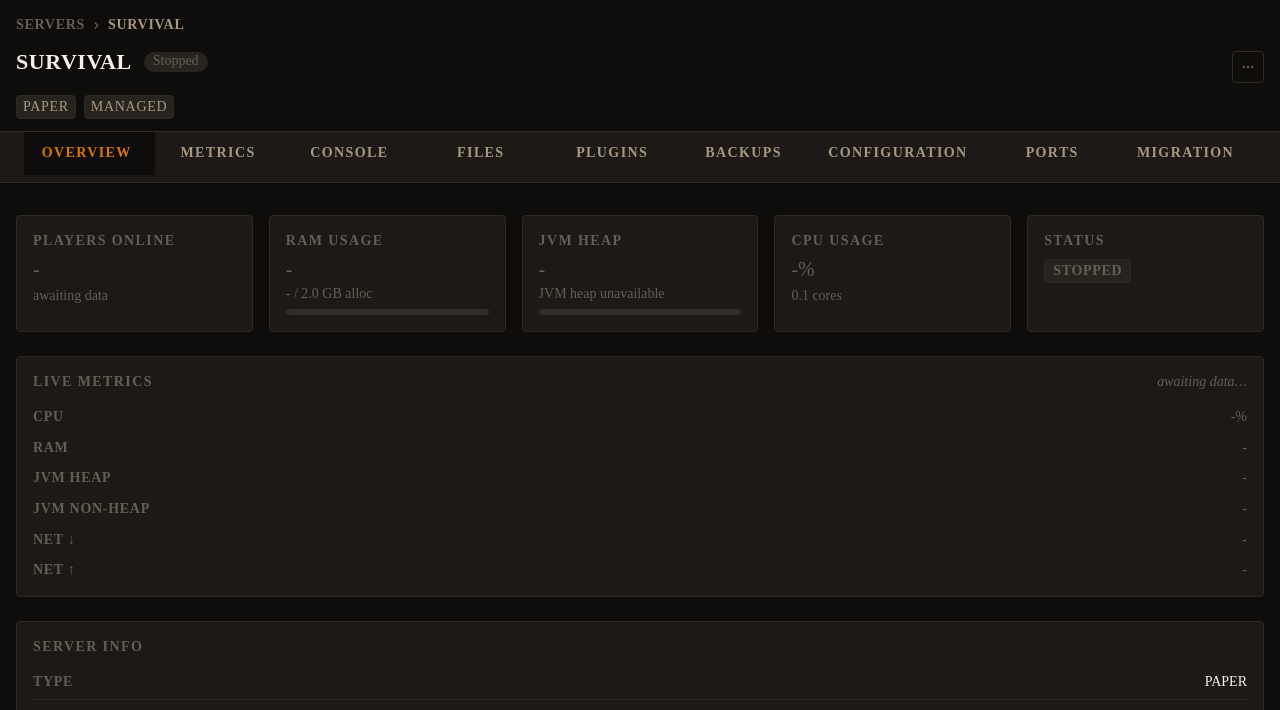
Test case: ServerDetailPage › Export button › shows Export button in overflow menu with server.export permission
Expected: the text "Survival" is shown, [108,16,184,35]
Click the button named "More actions".
click(1248, 67)  # box [1232,51,1264,83]
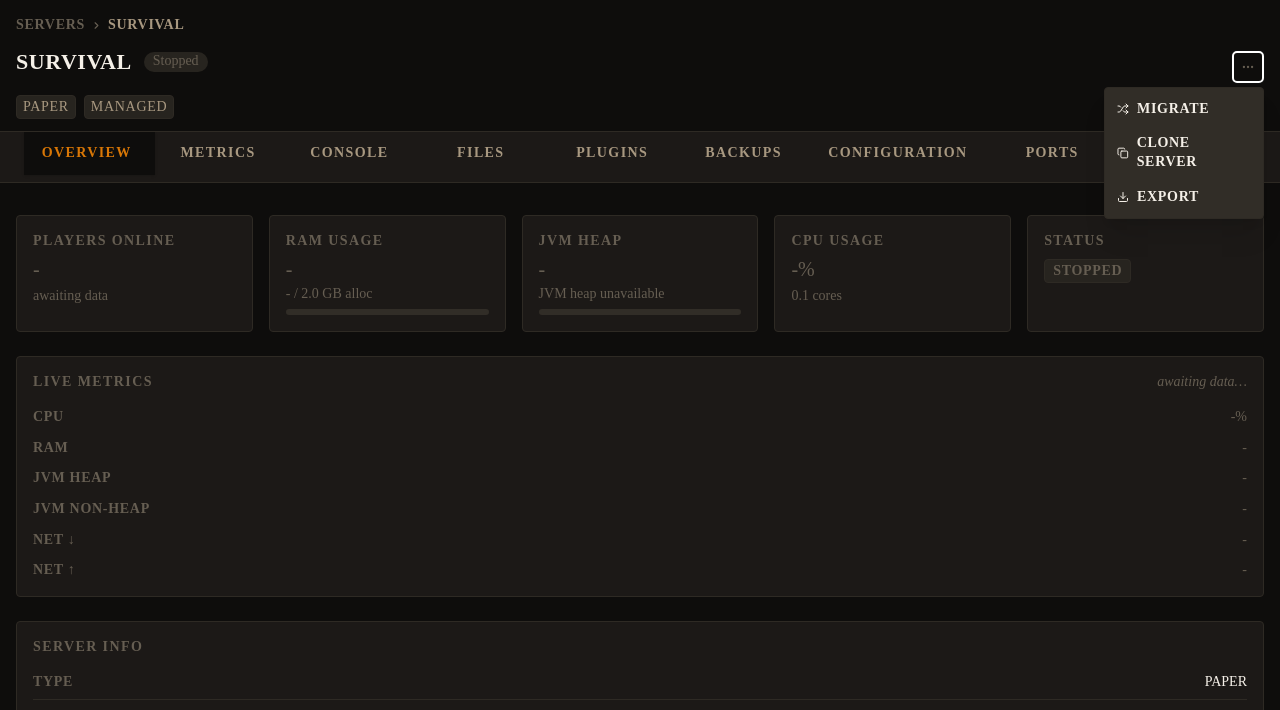
Now the button "Export" is shown, box [1105,180,1263,214]
